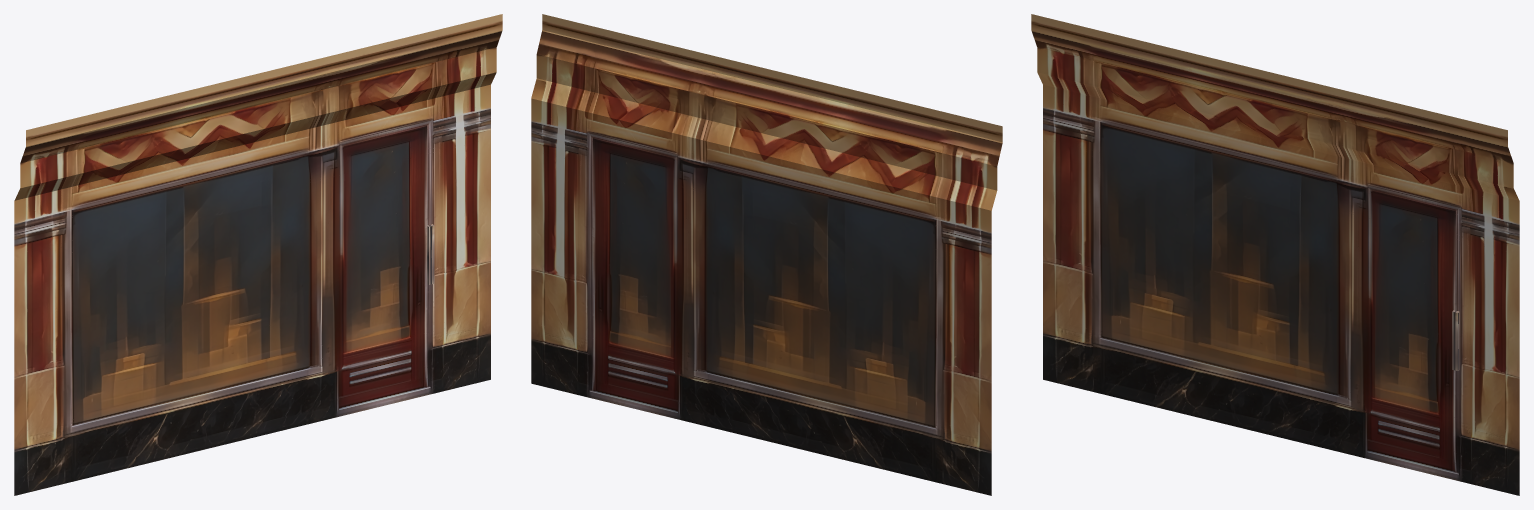
The model's file is DECO_G_Bay6A.fbx.
3 views of the same model, side by side, from view 1: azimuth 30°, elevation 25°; view 2: azimuth 150°, elevation 25°; view 3: azimuth 330°, elevation 25° (orthographic). The views are drawn at different scales.
Parts seen in each view (by area): view 1: DECO_G_Bay6A; view 2: DECO_G_Bay6A; view 3: DECO_G_Bay6A.
Boxes of the visible parts, x1,y1,x2,y2 form: DECO_G_Bay6A: (14, 14, 502, 495); DECO_G_Bay6A: (531, 14, 1002, 495); DECO_G_Bay6A: (1031, 14, 1519, 495).
Size of the model in its own units: 6 by 0.25 by 4.5.
Materials: 1 (1 with a texture image).
